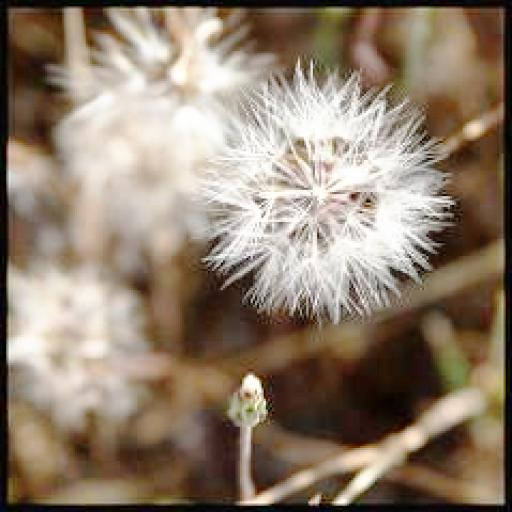dandelion: (195, 66, 454, 309)
